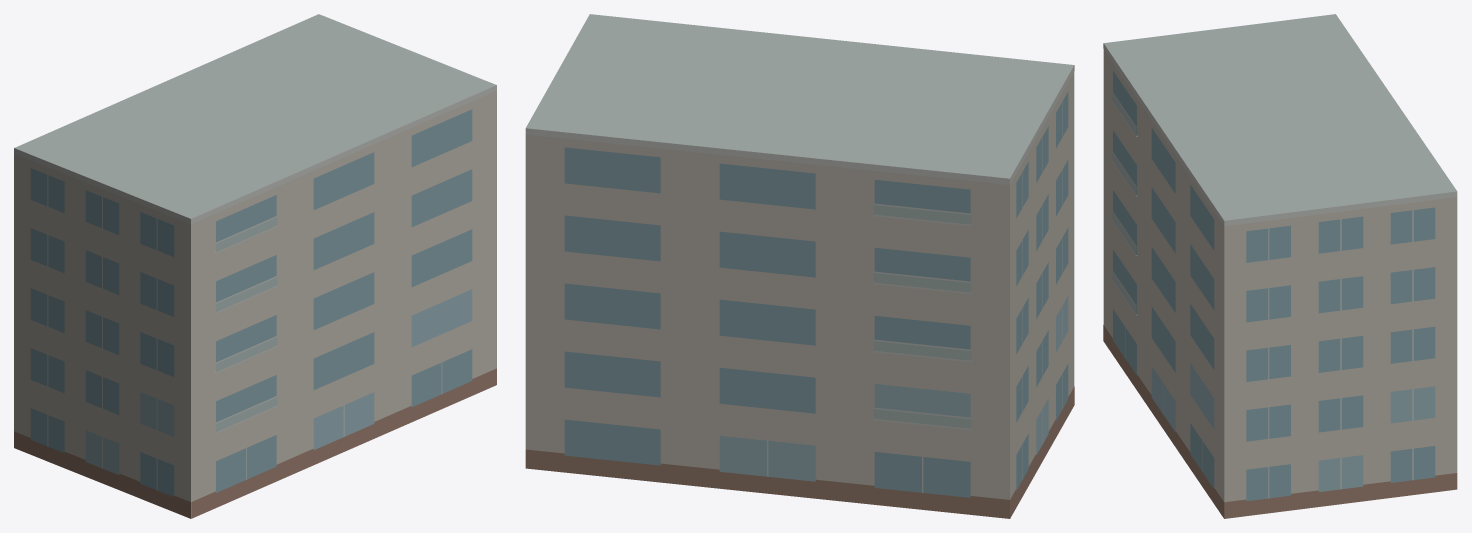
Rendered from survey-upis-32961244.glb.
The picture shows the model from 3 angles, left to right: view 1: azimuth 30°, elevation 25°; view 2: azimuth 150°, elevation 25°; view 3: azimuth 270°, elevation 25°; orthographic projection. The views are drawn at different scales.
Visible parts, largest first — view 1: survey-upis-32961244.tmp; view 2: survey-upis-32961244.tmp; view 3: survey-upis-32961244.tmp.
Boxes of the visible parts, box(x1,y1,x2,y2) form: survey-upis-32961244.tmp: box(14, 14, 496, 518); survey-upis-32961244.tmp: box(525, 14, 1074, 518); survey-upis-32961244.tmp: box(1103, 14, 1457, 518).
Bounding box in the file's own units: 19.65 × 13.2 × 14.21.
